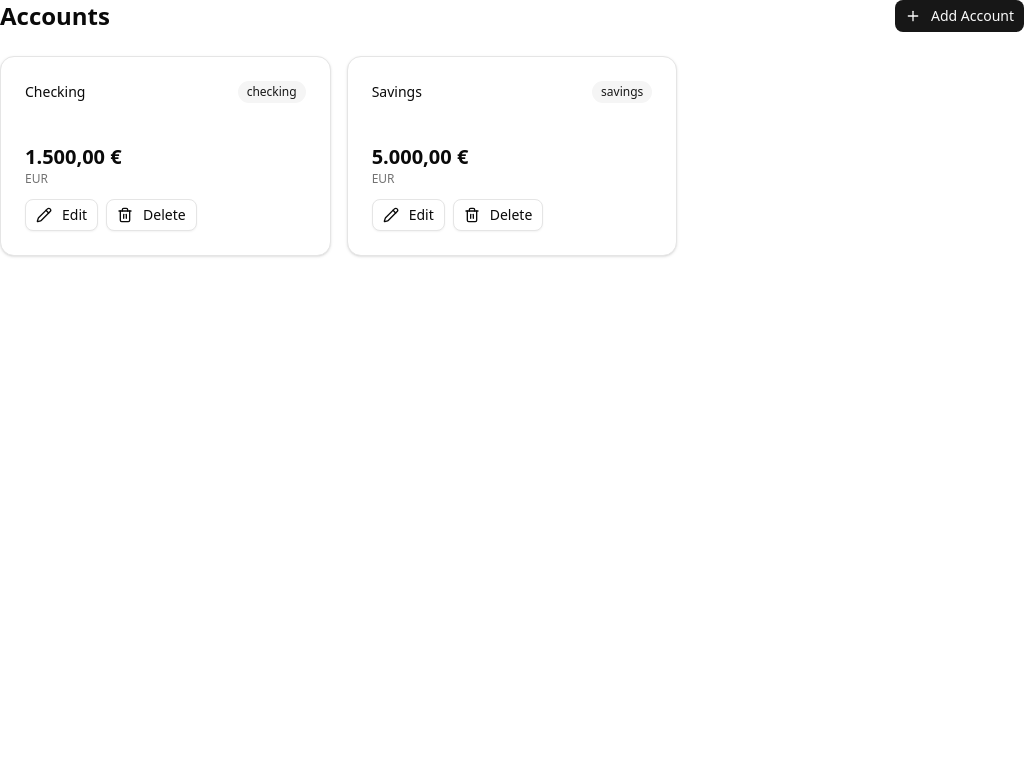
Scenario: AccountsPage › opens create dialog on add button click
Expected: the text "Checking" is shown, [25,82,86,102]
Click the button "Add Account". click: (960, 16)
box: [895,0,1023,32]
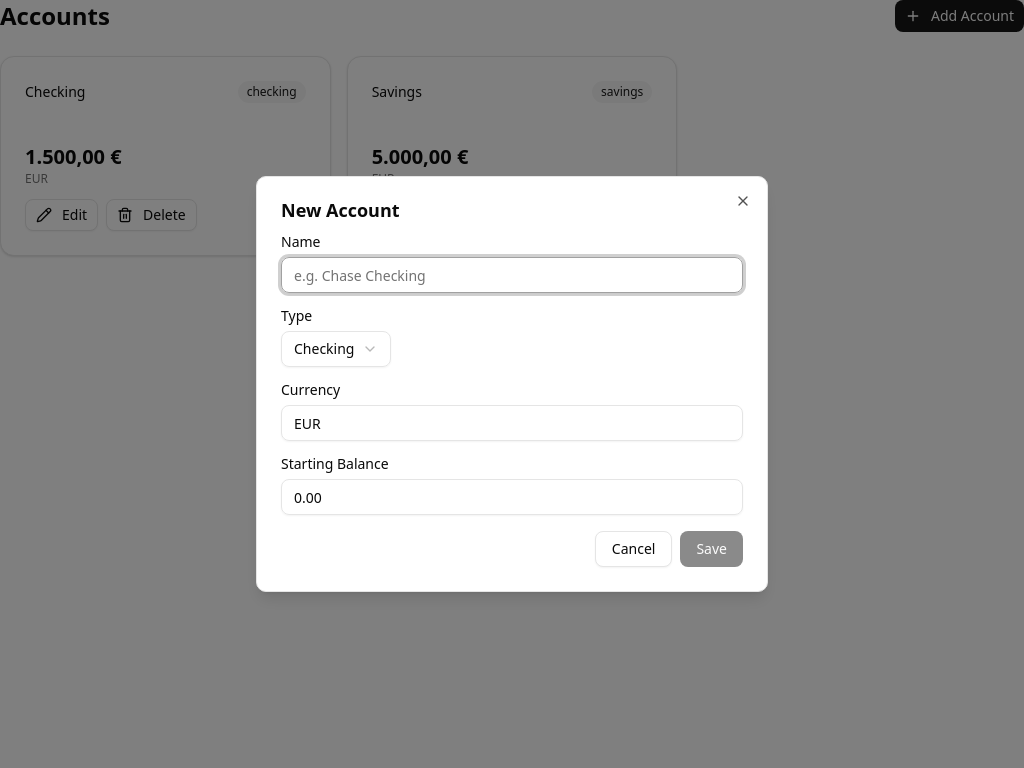
Now the heading "New Account" is shown, box [281,198,400,222]
